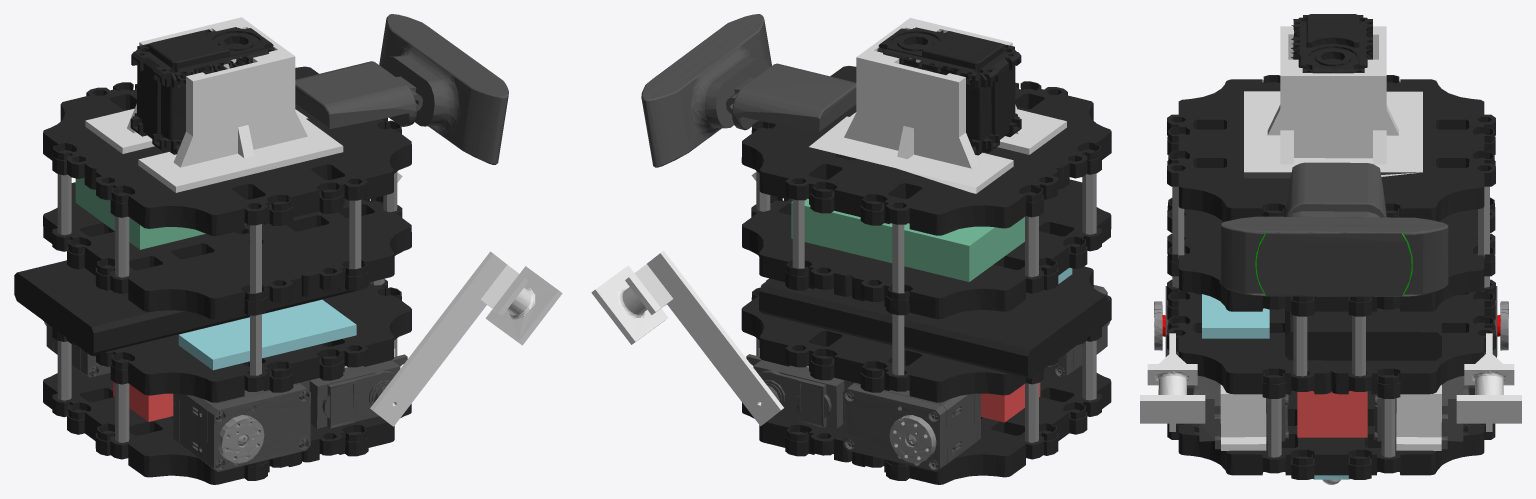
Rendered from Robot.fbx.
3 views of the same model, side by side, from view 1: azimuth 30°, elevation 25°; view 2: azimuth 150°, elevation 25°; view 3: azimuth 270°, elevation 25° (orthographic).
Parts seen in each view (by area): view 1: Robot; view 2: Robot; view 3: Robot.
Part boxes in pixels (bbox=[...]): Robot: bbox=[14, 14, 562, 484]; Robot: bbox=[591, 14, 1111, 484]; Robot: bbox=[1140, 14, 1521, 484].
Size of the model in its own units: 200 by 191 by 169.
